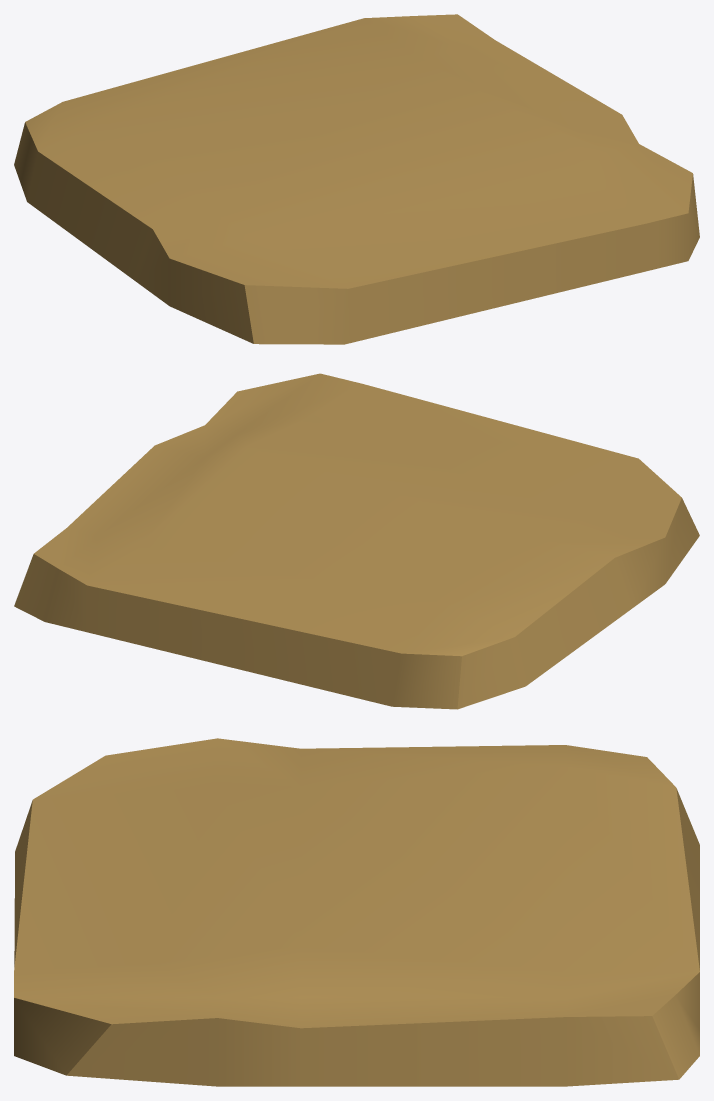
File: Path1_Raw.fbx
3 views of the same model, one above another, from view 1: azimuth 30°, elevation 25°; view 2: azimuth 150°, elevation 25°; view 3: azimuth 270°, elevation 25° (orthographic). The views are drawn at different scales.
Parts seen in each view (by area): view 1: pCube3; view 2: pCube3; view 3: pCube3.
Part boxes in pixels (x1,y1,x2,y2): pCube3: [14, 14, 699, 344]; pCube3: [14, 373, 699, 709]; pCube3: [14, 738, 699, 1086].
Bounding box in the file's own units: 4.23 × 0.5697 × 4.23.
